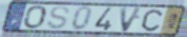0: (69, 5, 95, 32)
4: (92, 7, 114, 32)
C: (141, 8, 164, 32)
O: (23, 4, 48, 30)
S: (45, 5, 71, 31)
V: (119, 6, 145, 34)
